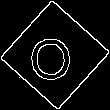O_N: (32, 28, 78, 82)
